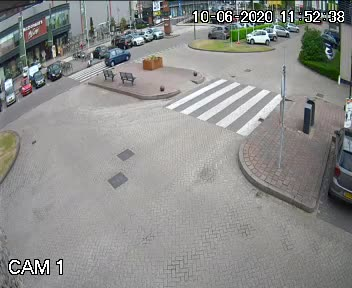car: (103, 44, 138, 65)
